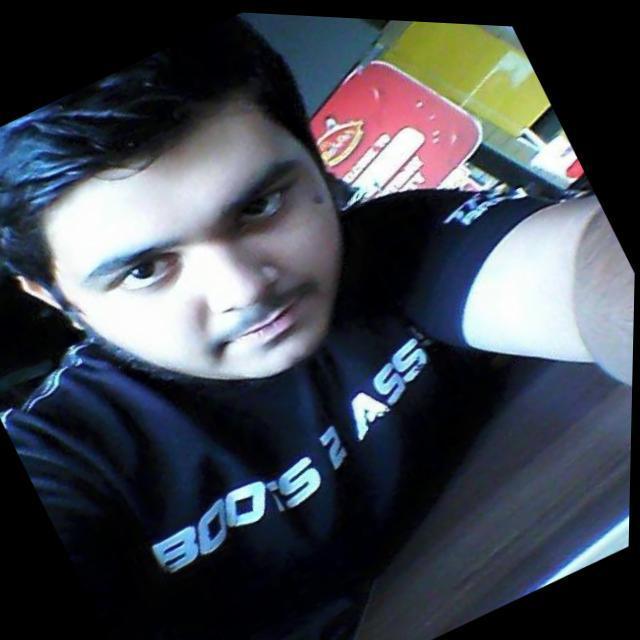Nonhelmet: (2, 17, 356, 387)
